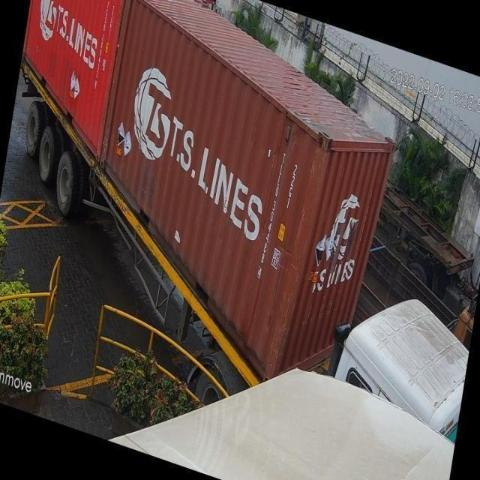van: (331, 300, 470, 436)
